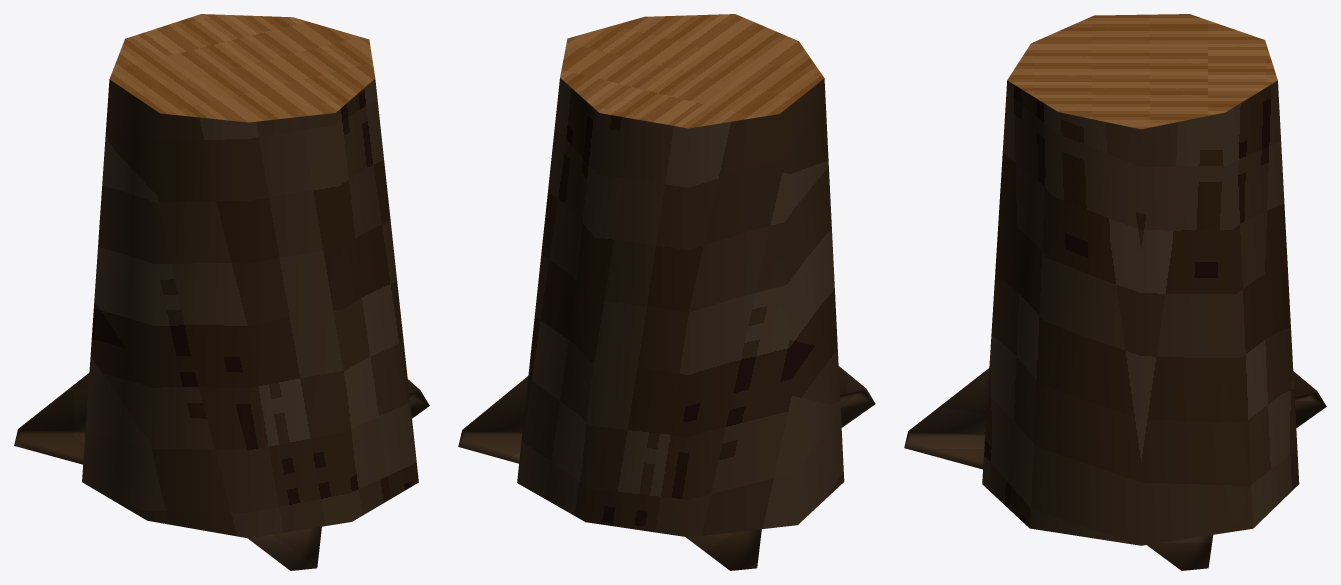
Rendered from stump01_update-lod1.glb.
The picture shows the model from 3 angles, left to right: view 1: azimuth 30°, elevation 25°; view 2: azimuth 150°, elevation 25°; view 3: azimuth 270°, elevation 25°; orthographic projection.
Visible parts, largest first — view 1: TZ_stump_Batch_00_LOD1, TZ_stump_Batch_01_LOD1; view 2: TZ_stump_Batch_00_LOD1, TZ_stump_Batch_01_LOD1; view 3: TZ_stump_Batch_00_LOD1, TZ_stump_Batch_01_LOD1.
Part boxes in pixels (<box>): TZ_stump_Batch_00_LOD1: <box>14,79,429,570</box>; TZ_stump_Batch_01_LOD1: <box>109,14,375,122</box>; TZ_stump_Batch_00_LOD1: <box>458,78,875,570</box>; TZ_stump_Batch_01_LOD1: <box>560,14,824,128</box>; TZ_stump_Batch_00_LOD1: <box>904,80,1326,570</box>; TZ_stump_Batch_01_LOD1: <box>1007,14,1277,129</box>.
Bounding box in the file's own units: 0.5345 × 0.58 × 0.5527.
Materials: 2 (2 with a texture image).
